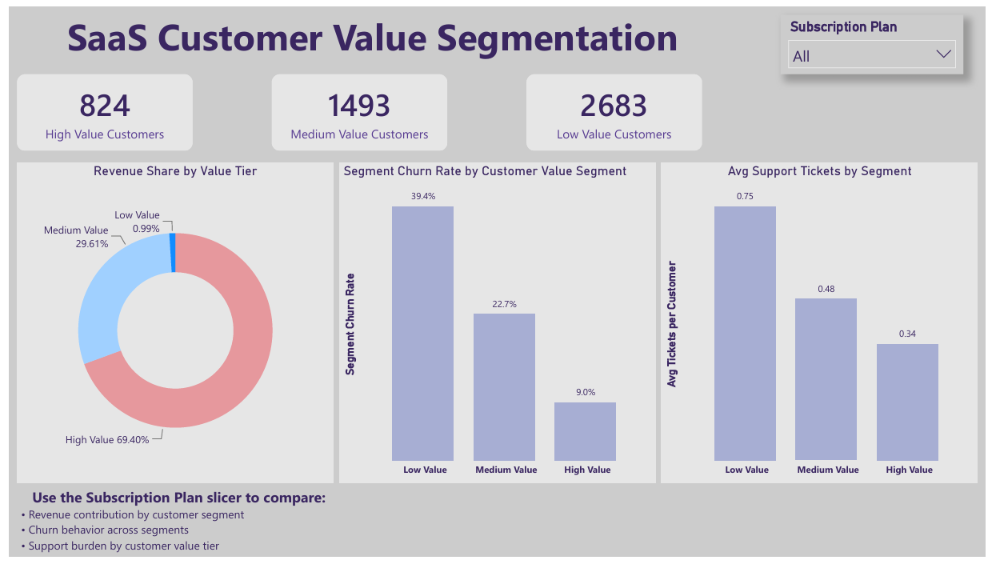

What the dashboard file says about the page in this screenshot:
{"tool":"powerbi","page":{"name":"Customer Value Segmentation","canvas":[1280,720],"ordinal":1},"visuals":[{"type":"textbox","box":[10,0,906.2,76.2],"z":0},{"type":"cardVisual","fields":{"Data":["saas customers.High Value Customers"]},"box":[9.7,88.1,230,100],"z":1000},{"type":"cardVisual","fields":{"Data":["saas customers.Medium Value Customers"]},"box":[343.8,88.1,230,100],"z":2000},{"type":"cardVisual","fields":{"Data":["saas customers.Low Value Customers"]},"box":[678,88.1,230,100],"z":3000},{"type":"donutChart","title":"Revenue Share by Value Tier","fields":{"Category":["saas customers.Customer Value Segment"],"Y":["saas payments.Total Revenue"]},"box":[9.7,203.9,415,420],"z":4000},{"type":"clusteredColumnChart","fields":{"Category":["saas customers.Customer Value Segment"],"Y":["saas customers.Segment Churn Rate"]},"box":[432.5,203.9,415,420],"z":5000},{"type":"clusteredColumnChart","title":"Avg Support Tickets by Segment","fields":{"Category":["saas customers.Customer Value Segment"],"Y":["saas support_tickets.Avg Tickets per Customer"]},"box":[855.4,203.9,415,420],"z":6000},{"type":"textbox","box":[10,623.8,1270,96.2],"z":7000},{"type":"slicer","fields":{"Values":["saas customers.subscription_plan"]},"box":[1011,9.7,240.1,78.4],"z":8000}]}

Visuals, with their boxes in screenshot pixels (x1, y1, x2, y2), scaled from the page's 1280x720 canvas onto the 997x567 screenshot:
textbox: <box>8,0,714,60</box>
cardVisual - saas customers.High Value Customers: <box>8,69,187,148</box>
cardVisual - saas customers.Medium Value Customers: <box>268,69,447,148</box>
cardVisual - saas customers.Low Value Customers: <box>528,69,707,148</box>
"Revenue Share by Value Tier" donutChart: <box>8,161,331,491</box>
clusteredColumnChart - saas customers.Customer Value Segment x saas customers.Segment Churn Rate: <box>337,161,660,491</box>
"Avg Support Tickets by Segment" clusteredColumnChart: <box>666,161,990,491</box>
textbox: <box>8,491,996,566</box>
slicer - saas customers.subscription_plan: <box>787,8,974,69</box>
